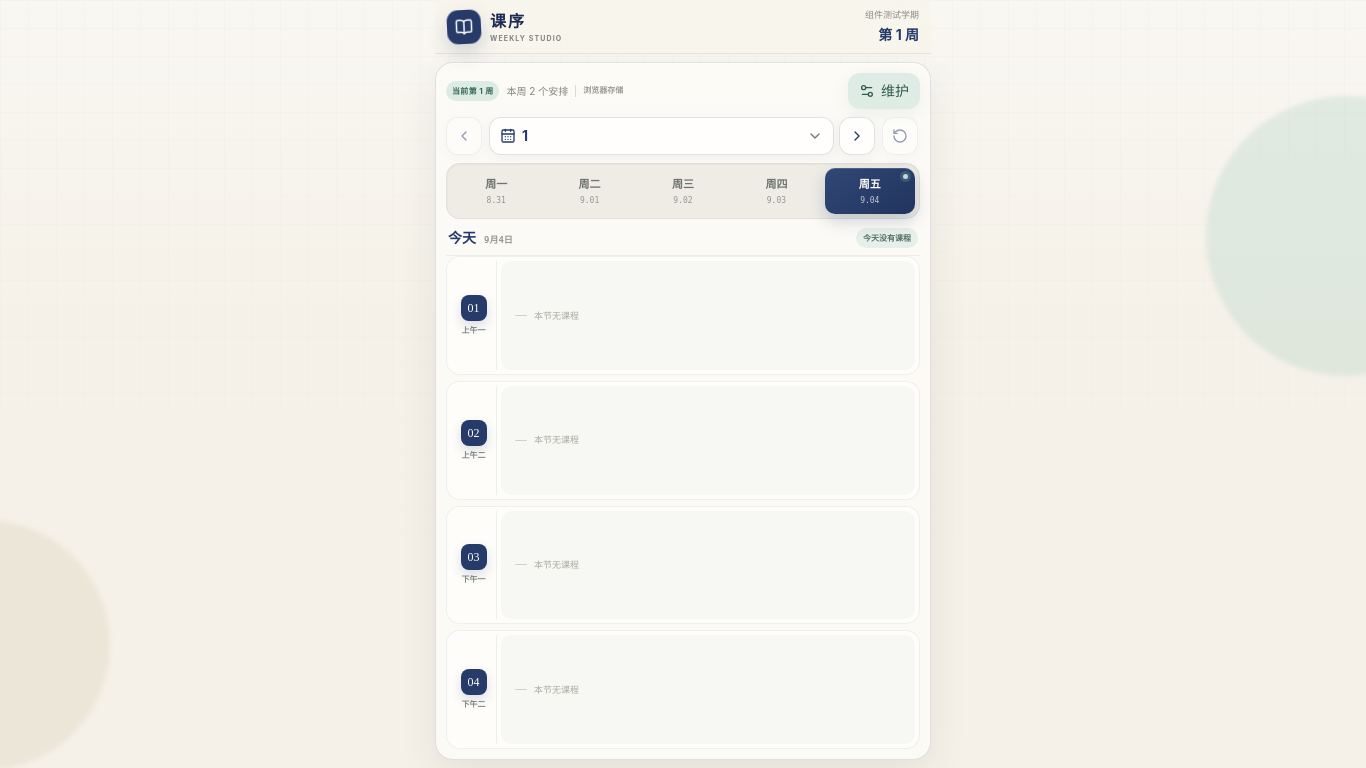
Test: course schedule page › 内容完全相同的课程也能分别删除
The image size is (1366, 768).
Click the button "维护".
click(884, 91)  # box [848,73,920,109]
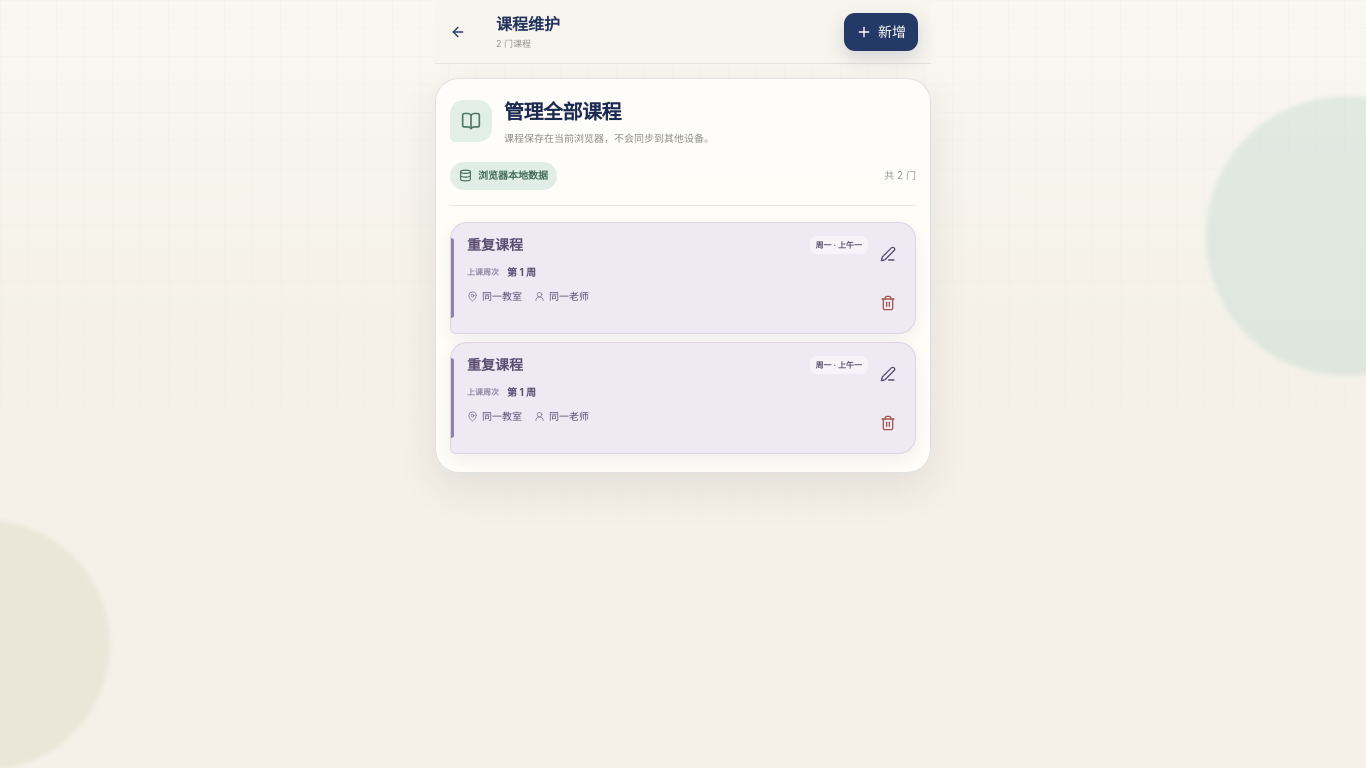
expect the number of buttons named "删除课程：重复课程" is 2: met
Click the 1st button named "删除课程：重复课程".
click(888, 302)  # box [870,284,906,320]
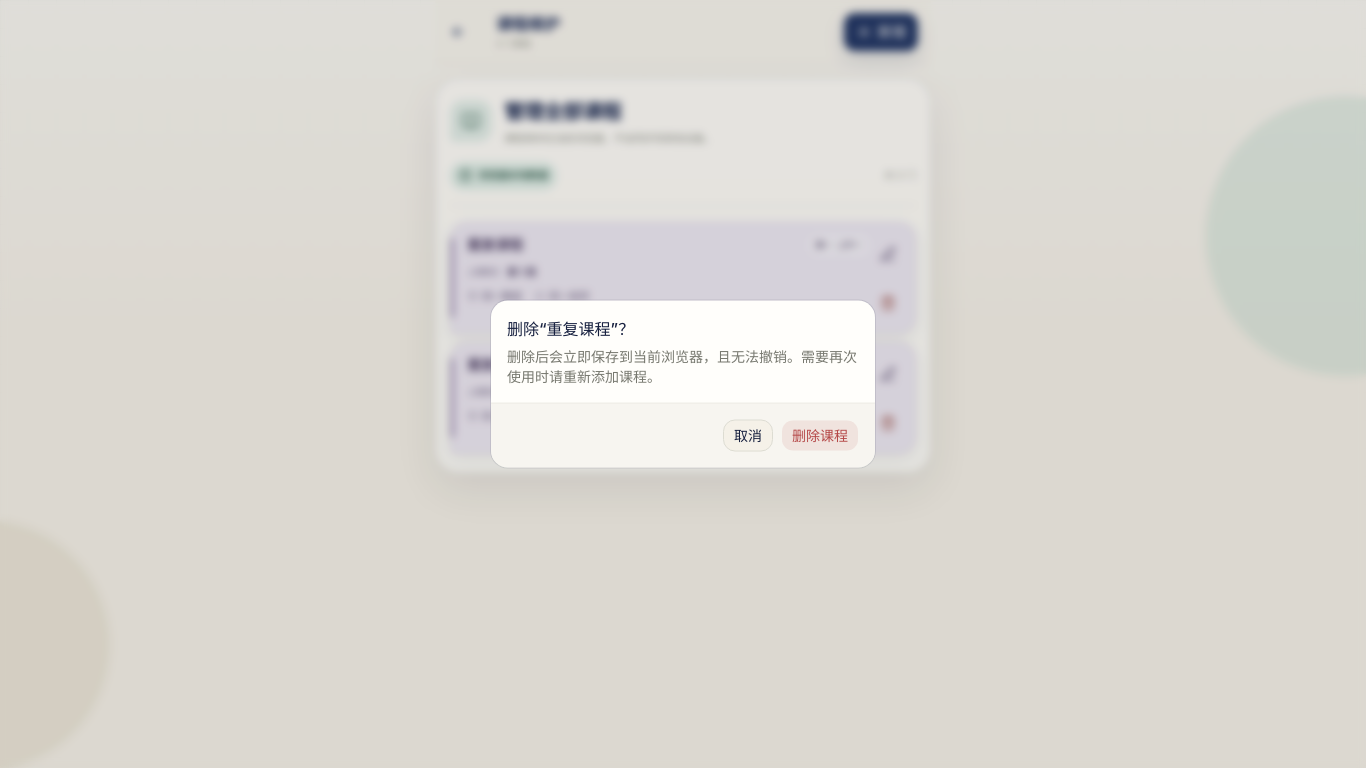
Click the button "删除课程".
click(820, 436)  # box [781,420,859,452]
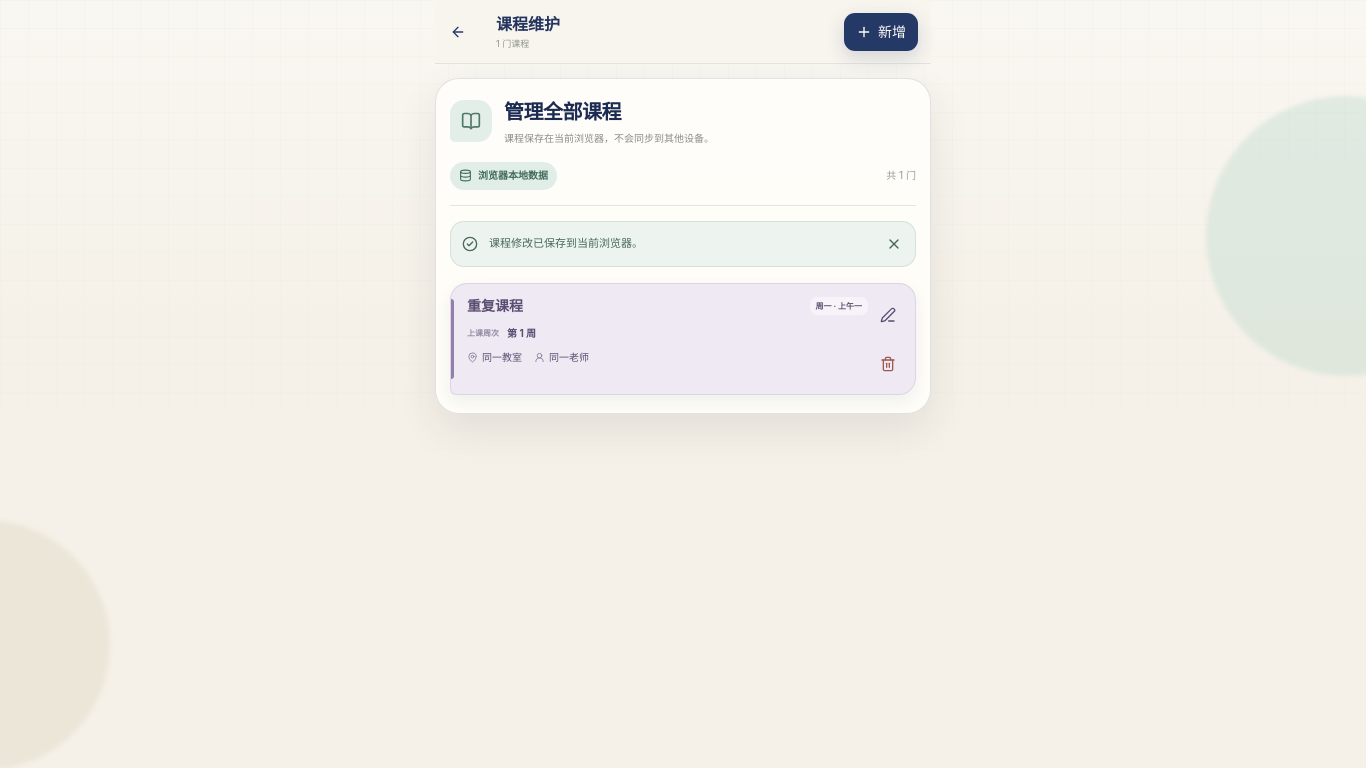
expect the number of headings "重复课程" is 1: met, box [467,296,523,315]
